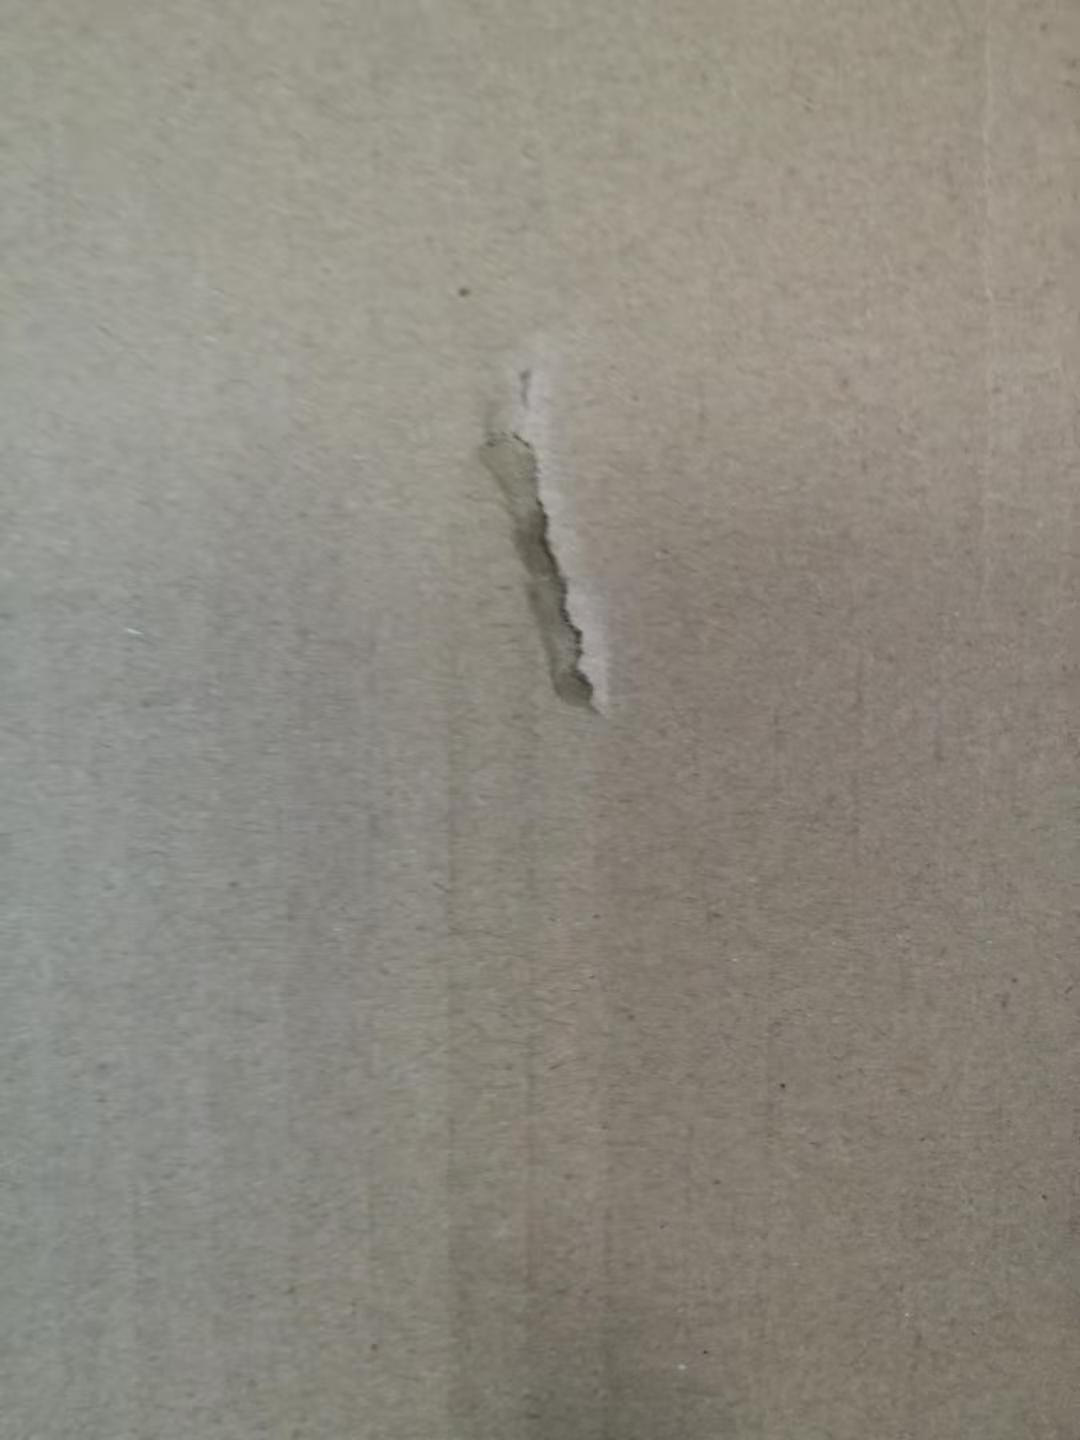defect: (440, 332, 653, 759)
